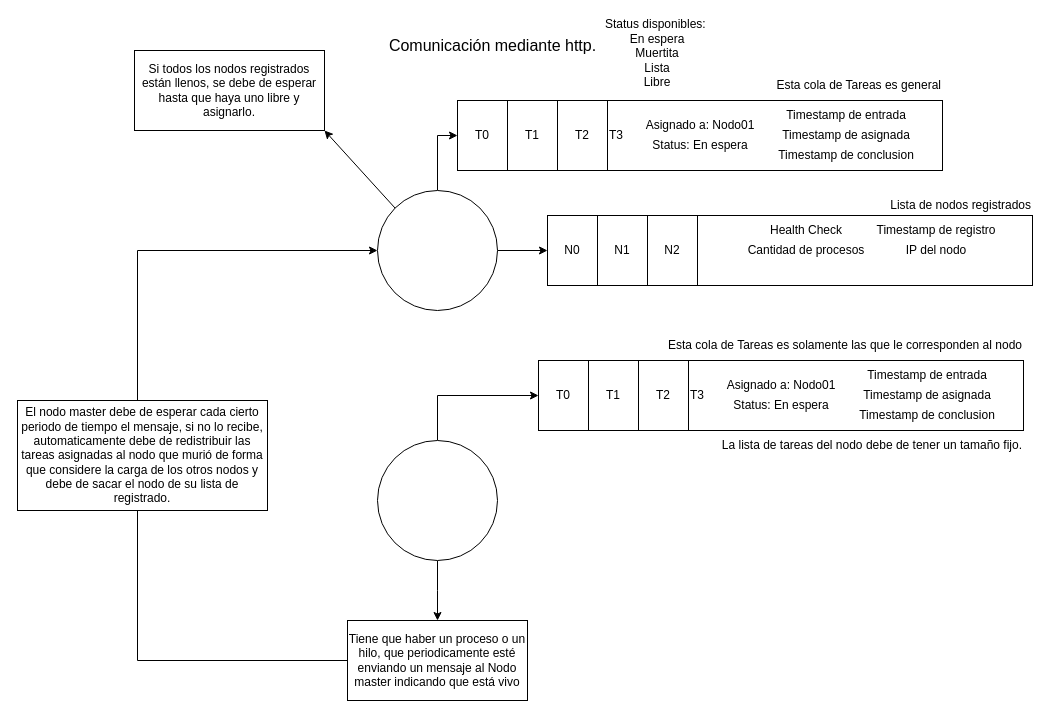
This 1050x718 diagram has some shape labels left out. Here are the shapes that lost their labels. From the top down, the box of each, then its label:
(376, 190, 498, 310): Master: Puerto 8081
(696, 214, 1032, 286): N3
(376, 440, 498, 560): Nodo: Puerto ???? Direccion del master Cantidad de procesos
